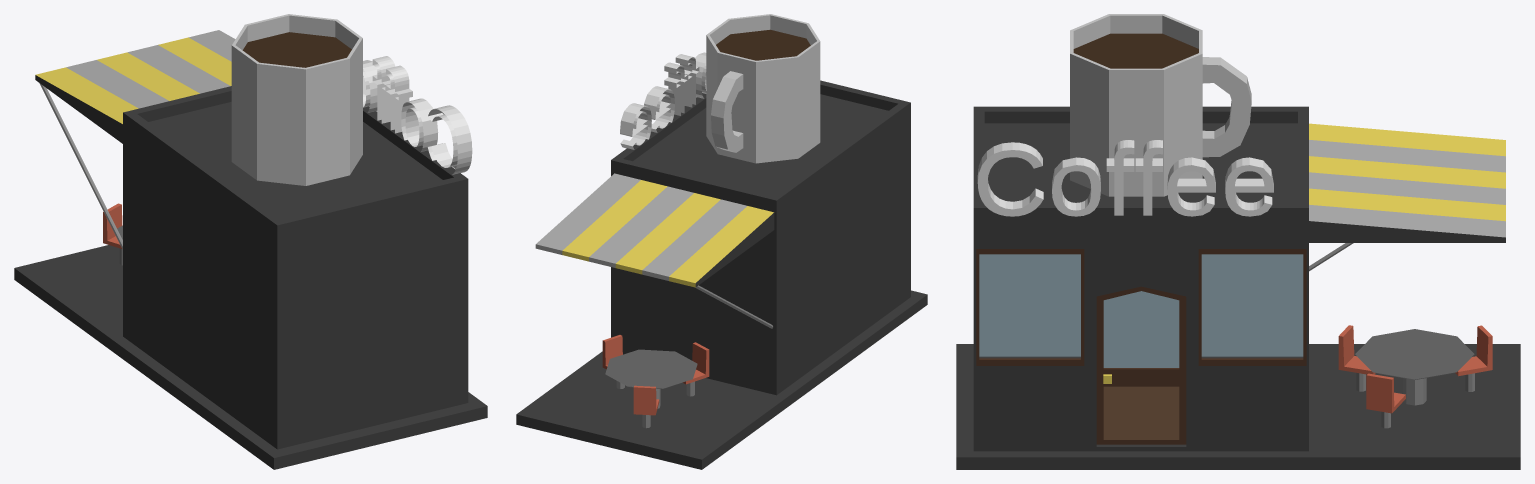
File: coffe-m.glb
3 views of the same model, side by side, from view 1: azimuth 30°, elevation 25°; view 2: azimuth 150°, elevation 25°; view 3: azimuth 270°, elevation 25° (orthographic). The views are drawn at different scales.
Visible parts, largest first — view 1: coffe-m; view 2: coffe-m; view 3: coffe-m.
Boxes of the visible parts, x1=… form: coffe-m: x1=14, y1=14, x2=487, y2=469; coffe-m: x1=516, y1=14, x2=927, y2=469; coffe-m: x1=956, y1=14, x2=1520, y2=469.
Bounding box in the file's own units: 2.97 × 4.54 × 6.26.
Materials: 1 (1 with a texture image).
